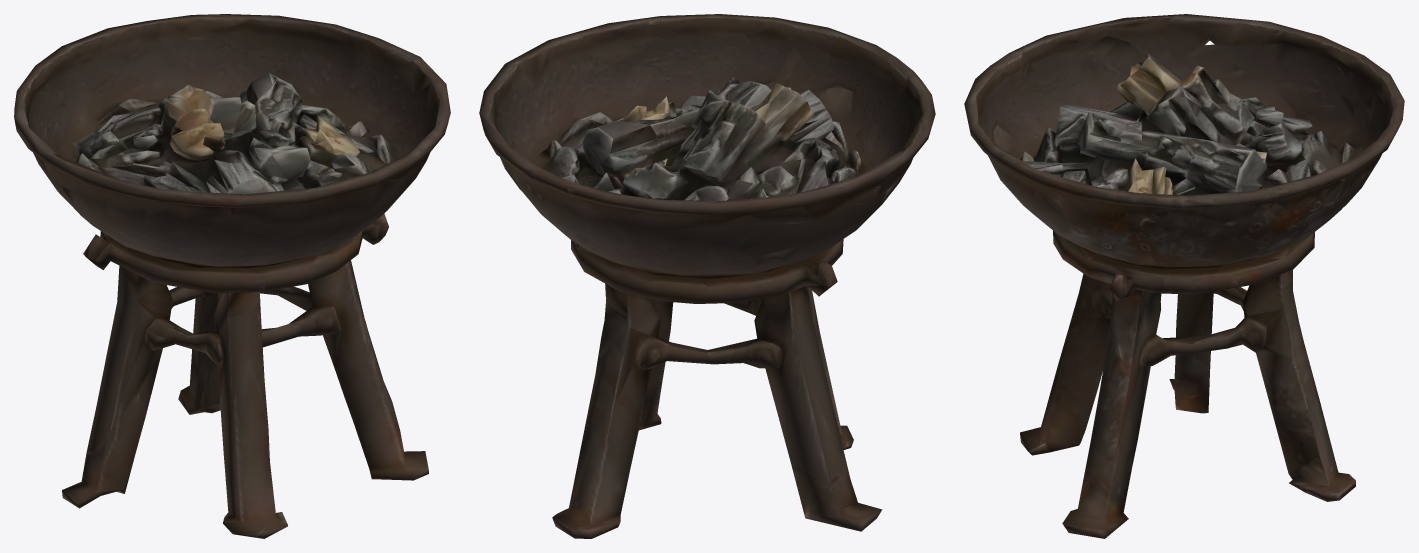
The model's file is signal-brazier.glb.
The picture shows the model from 3 angles, left to right: view 1: azimuth 30°, elevation 25°; view 2: azimuth 150°, elevation 25°; view 3: azimuth 270°, elevation 25°; orthographic projection. The views are drawn at different scales.
Parts seen in each view (by area): view 1: tripo_node_4ad6c430-4b19-427c-9948-f3f03b84b551; view 2: tripo_node_4ad6c430-4b19-427c-9948-f3f03b84b551; view 3: tripo_node_4ad6c430-4b19-427c-9948-f3f03b84b551.
Boxes of the visible parts, x1=… form: tripo_node_4ad6c430-4b19-427c-9948-f3f03b84b551: x1=14, y1=14, x2=450, y2=538; tripo_node_4ad6c430-4b19-427c-9948-f3f03b84b551: x1=479, y1=14, x2=935, y2=538; tripo_node_4ad6c430-4b19-427c-9948-f3f03b84b551: x1=964, y1=14, x2=1404, y2=538.
Size of the model in its own units: 1.56 by 1.5 by 1.56.
Materials: 1 (1 with a texture image).
